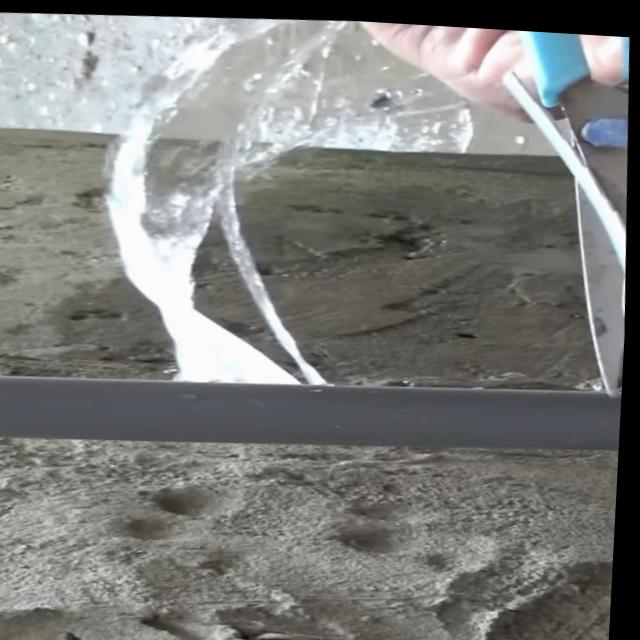leak: (108, 32, 325, 384)
